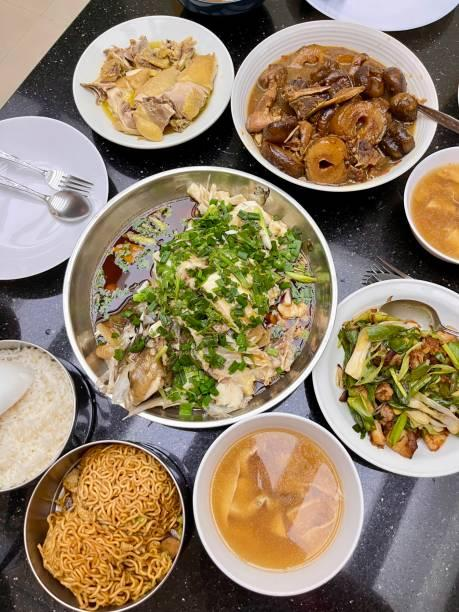Braised Crucian Carp: (65, 166, 334, 422), (230, 19, 437, 190), (191, 412, 364, 596), (312, 278, 456, 477), (23, 439, 189, 611), (70, 14, 233, 149)
